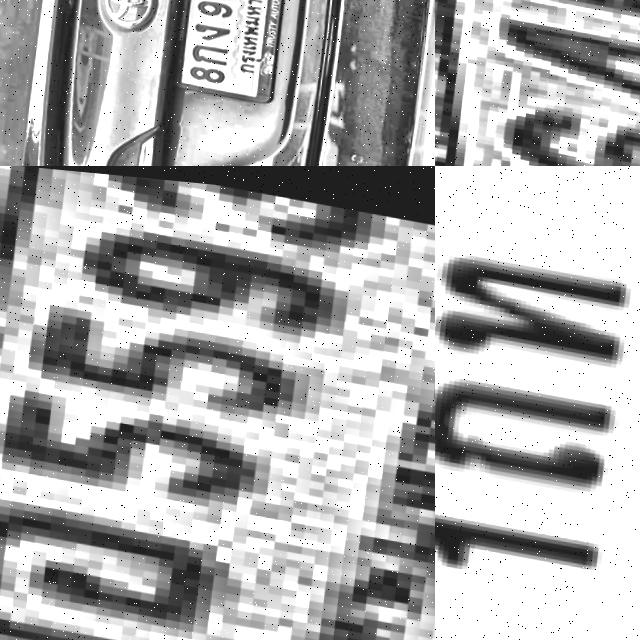license-plate: (0, 166, 435, 640), (435, 166, 640, 640), (435, 0, 640, 166), (163, 0, 291, 97)
